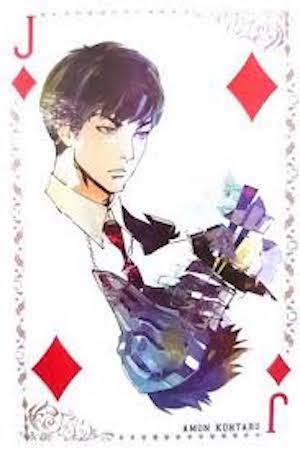JackOfDiamonds: (1, 3, 300, 444)
